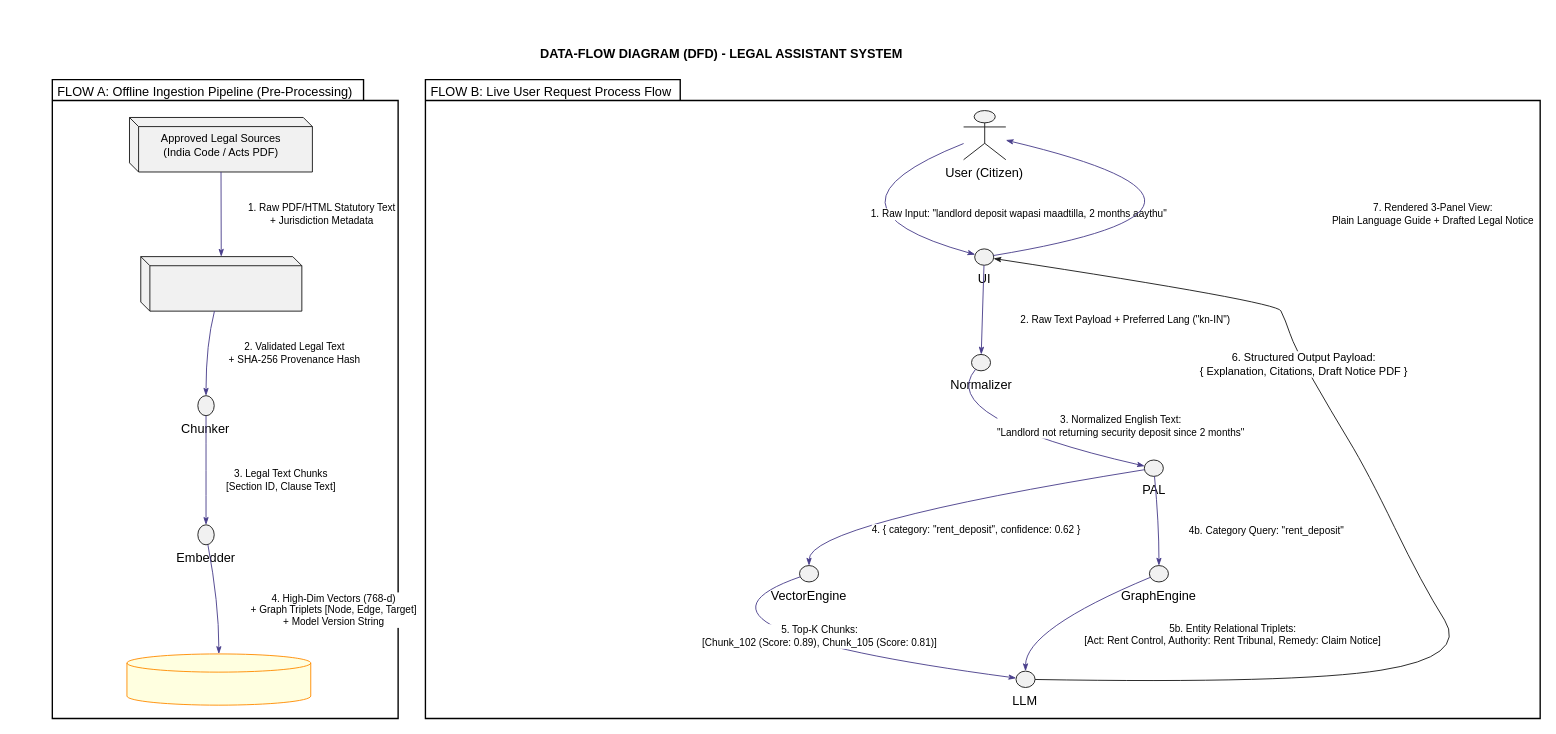
Some shapes in this 1556 by 734 pixel diagram are drawn without their labels. Here are the shapes that lost their labels. From the top down, the centre of each, then its label:
At [221,283]: "Provenance Register".
At [218,679]: "SAP HANA Cloud (Vectors, Metadata & Graph)".
